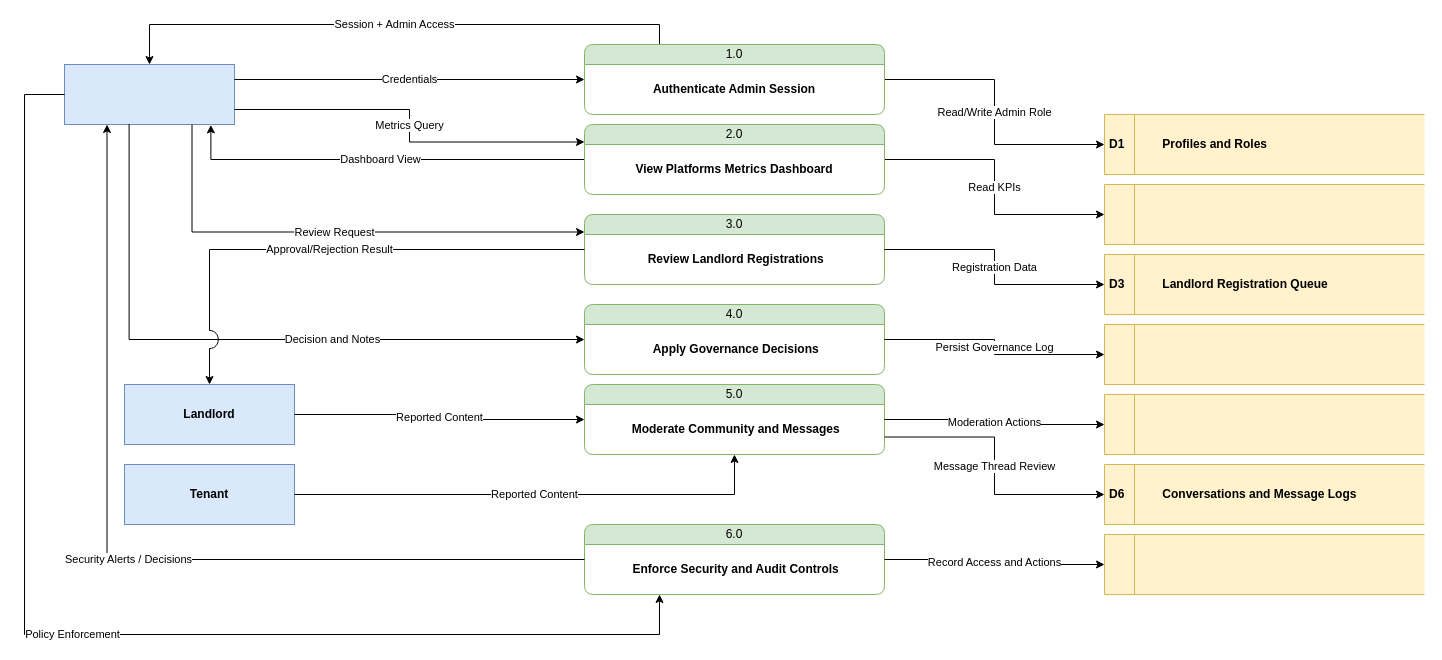
Some shapes in this 1442 by 660 pixel diagram are drawn without their labels. The shapes that lost their labels are listed below. From the top down, each one's centre as x and y in pixels, then its label:
At pixel 149 94: "Admin".
At pixel 1264 214: "D2 Platform Metrics and KPI Snapshots".
At pixel 1264 354: "D4 Admin Notes and Decisions".
At pixel 1264 424: "D5 Community Content and Moderation Flags".
At pixel 1264 564: "D7 Security Audit Trail".
